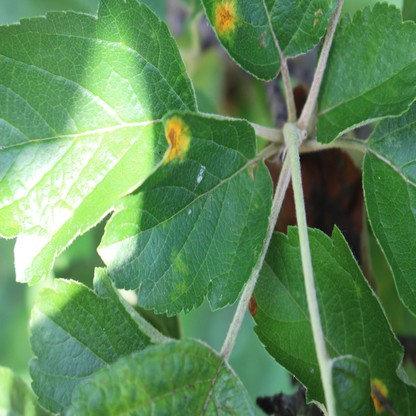frogeye_leaf_spot: (248, 295, 257, 314)
rust: (162, 118, 191, 162), (214, 0, 239, 46), (371, 378, 388, 413)
scab: (101, 340, 236, 416), (170, 247, 189, 299)
